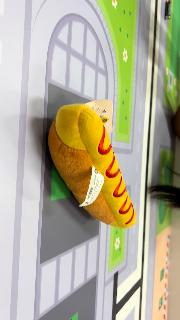hotdog: (48, 103, 138, 229)
